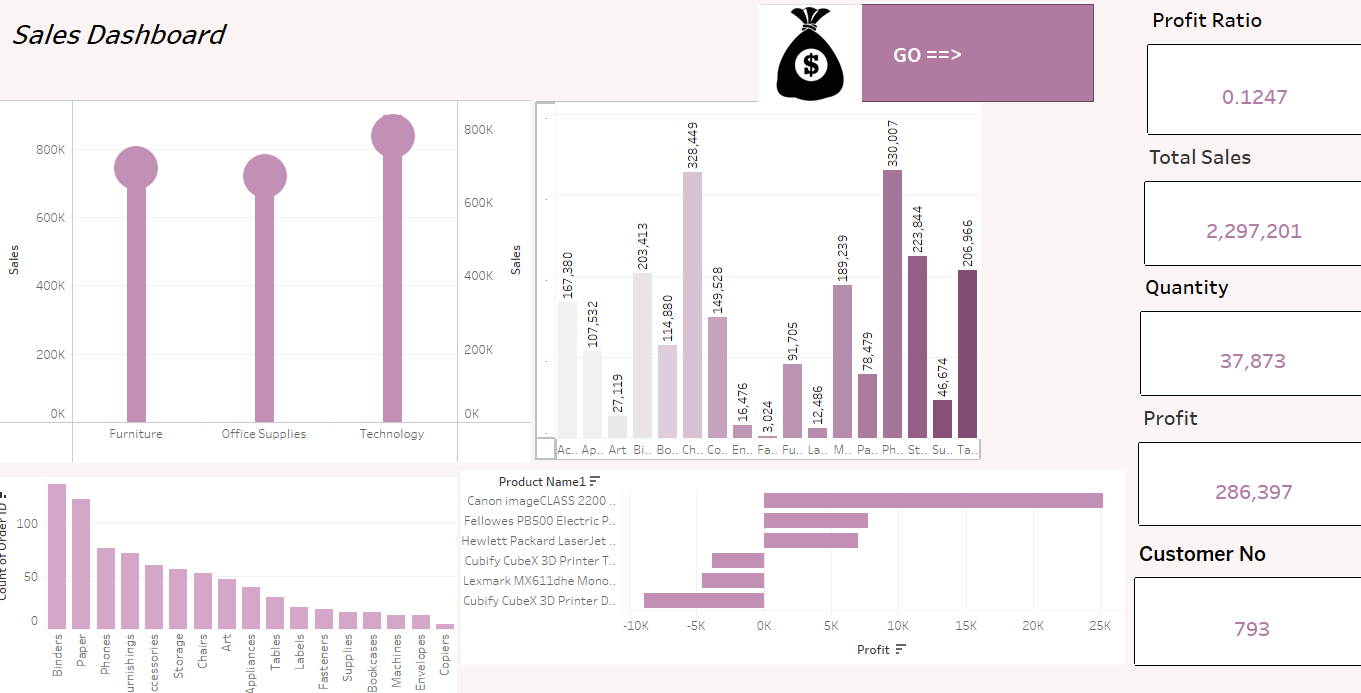

Layout of this report page (visuals, bound fields, positions):
{"tool":"tableau","page":{"name":"Dashboard 1","canvas":[1000,1000],"units":"permille","ordinal":0},"visuals":[{"type":"worksheet","title":"task 8 3","mark":"Automatic","box":[842.5,2,159.4,191.8]},{"type":"image","param":"C:/Users/Multimedia/Downloads/WhatsApp Image 2025-06-07 at 9.32.52 AM (3).jpeg","box":[557.7,6.1,85.3,142.9]},{"type":"dashboard-object","box":[559.5,6.1,244.2,140.8]},{"type":"title","box":[5.9,11.5,988.3,71.6]},{"type":"worksheet","title":"task 4","mark":"Circle","rows":["Sales","Sales"],"cols":["Category"],"box":[1.8,142.9,390.8,520.4]},{"type":"worksheet","title":"task 3","mark":"GanttBar","rows":["Calculation_419679208034013185"],"cols":["Sub-Category"],"box":[394.3,144.9,426.3,514.3]},{"type":"worksheet","title":"task 8 1","mark":"Automatic","box":[840.6,198,162.2,183.7]},{"type":"worksheet","title":"task 8 4","mark":"Automatic","box":[837.8,383.7,165.9,183.7]}]}

Visuals, with their boxes on the dashboard's canvas, which has no fixed pixel size, in thousandths of its width and height (x1, y1, x2, y2). These are canvas units, not pixel positions in the 1361x693 screenshot, which may show the page scaled, cropped or inside an application window:
"task 8 3" worksheet: (842, 2, 1002, 194)
image: (558, 6, 643, 149)
dashboard-object: (560, 6, 804, 147)
title: (6, 12, 994, 83)
"task 4" worksheet (Circle marks): (2, 143, 393, 663)
"task 3" worksheet (GanttBar marks): (394, 145, 821, 659)
"task 8 1" worksheet: (841, 198, 1003, 382)
"task 8 4" worksheet: (838, 384, 1004, 567)
